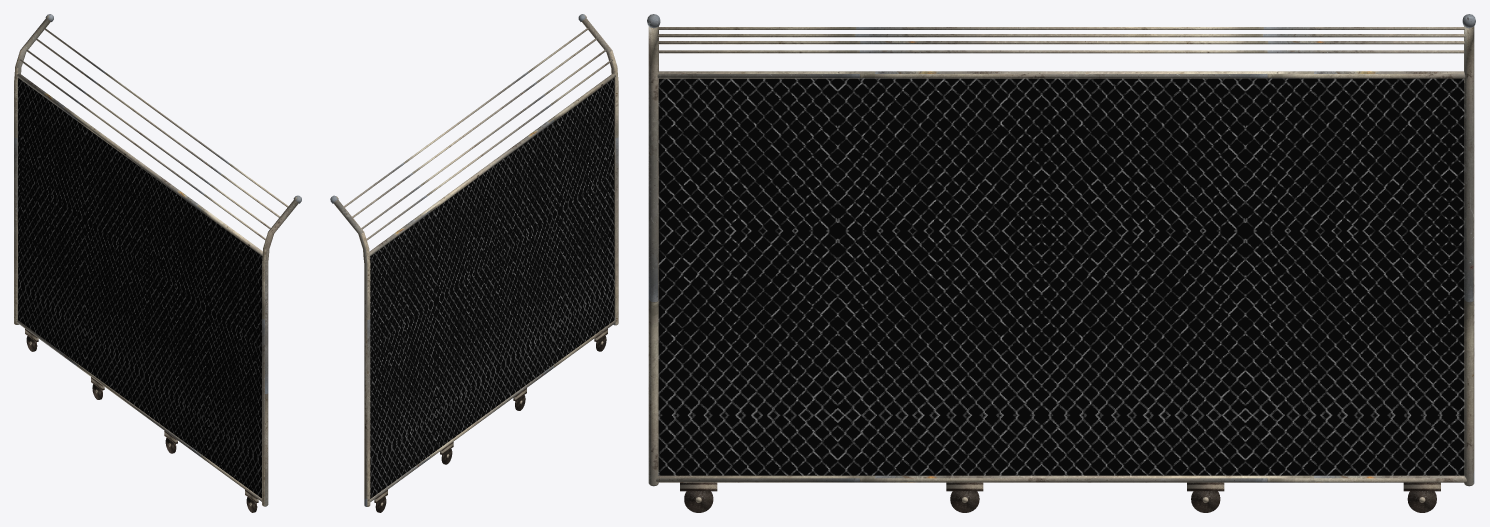
File: Chain_Gate.fbx
The picture shows the model from 3 angles, left to right: view 1: azimuth 30°, elevation 25°; view 2: azimuth 150°, elevation 25°; view 3: azimuth 270°, elevation 25°; orthographic projection. The views are drawn at different scales.
Visible parts, largest first — view 1: Chain_Gate; view 2: Chain_Gate; view 3: Chain_Gate.
Part boxes in pixels (<box>): Chain_Gate: <box>14,14,301,512</box>; Chain_Gate: <box>330,14,618,512</box>; Chain_Gate: <box>647,14,1475,512</box>.
Size of the model in its own units: 100 by 782 by 1122.
